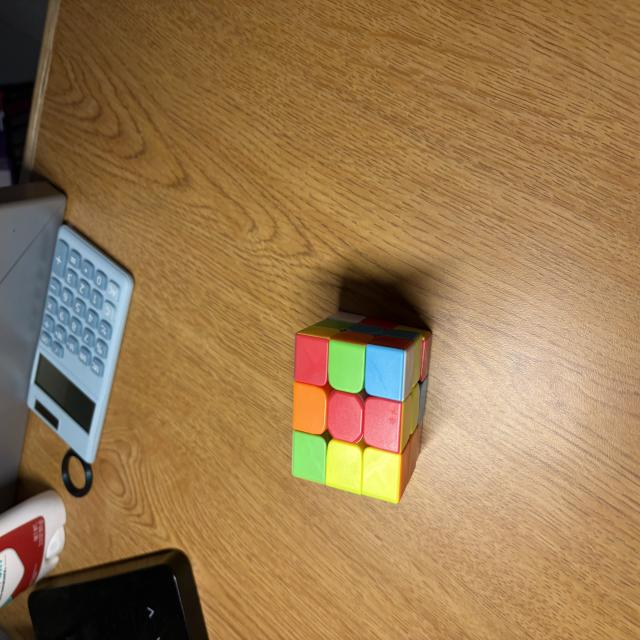Rubiks Cube: (289, 310, 429, 508)
